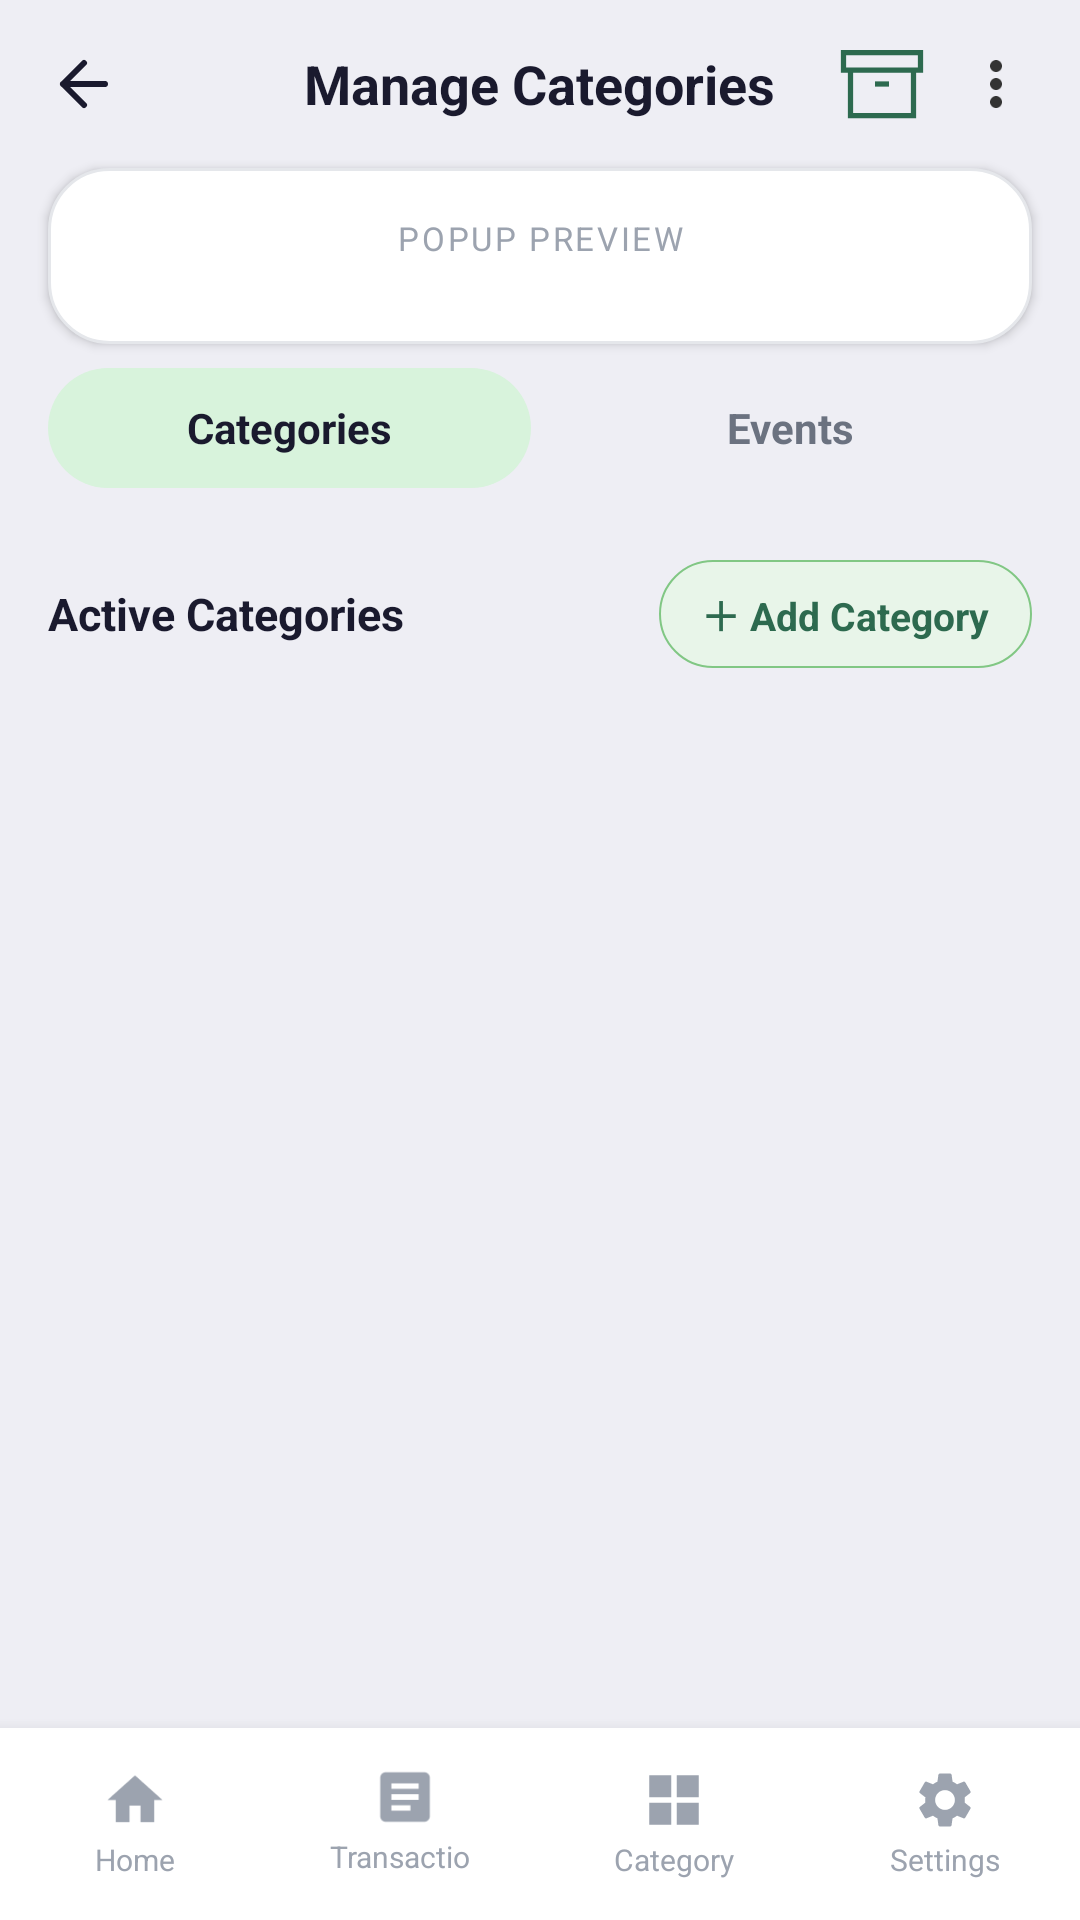

Screen size 1080px×1920px. Icon name, then its box in pixels as (x1, y1, x2, y2):
archive: (840, 50, 924, 119)
back: (60, 60, 108, 108)
more vert: (990, 60, 1002, 108)
